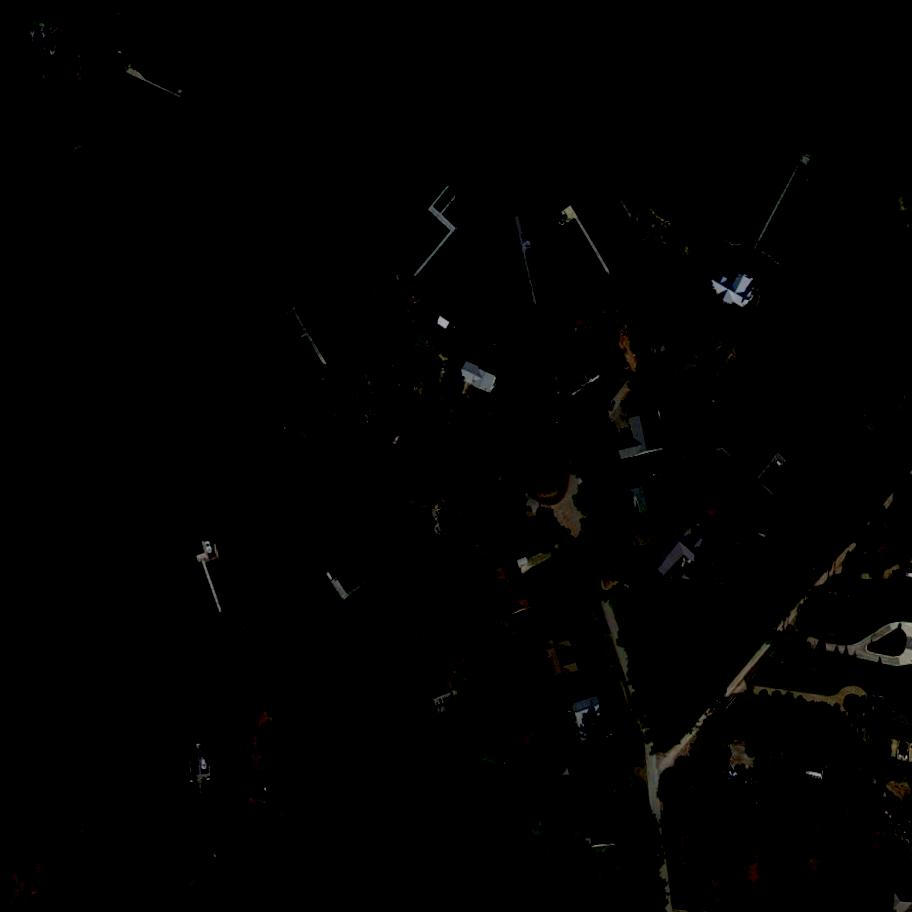ship: (868, 689, 891, 706), (838, 735, 856, 754)
